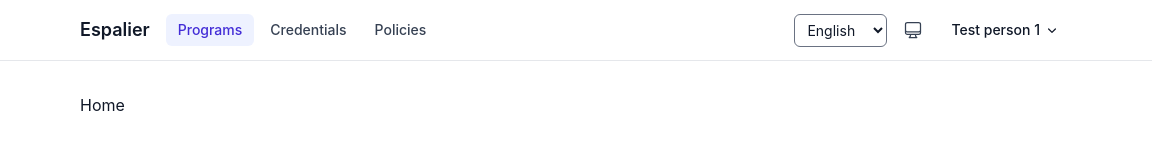
the user menu of a demo session holds the security settings of an mfa session and sign-out
Click the button "Test person 1" at [1006, 30], box [939, 14, 1072, 46]
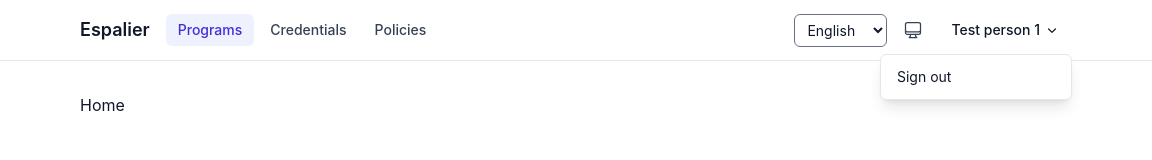
Result: the menu items read "Sign out", in this order at [881, 59, 1071, 95]
